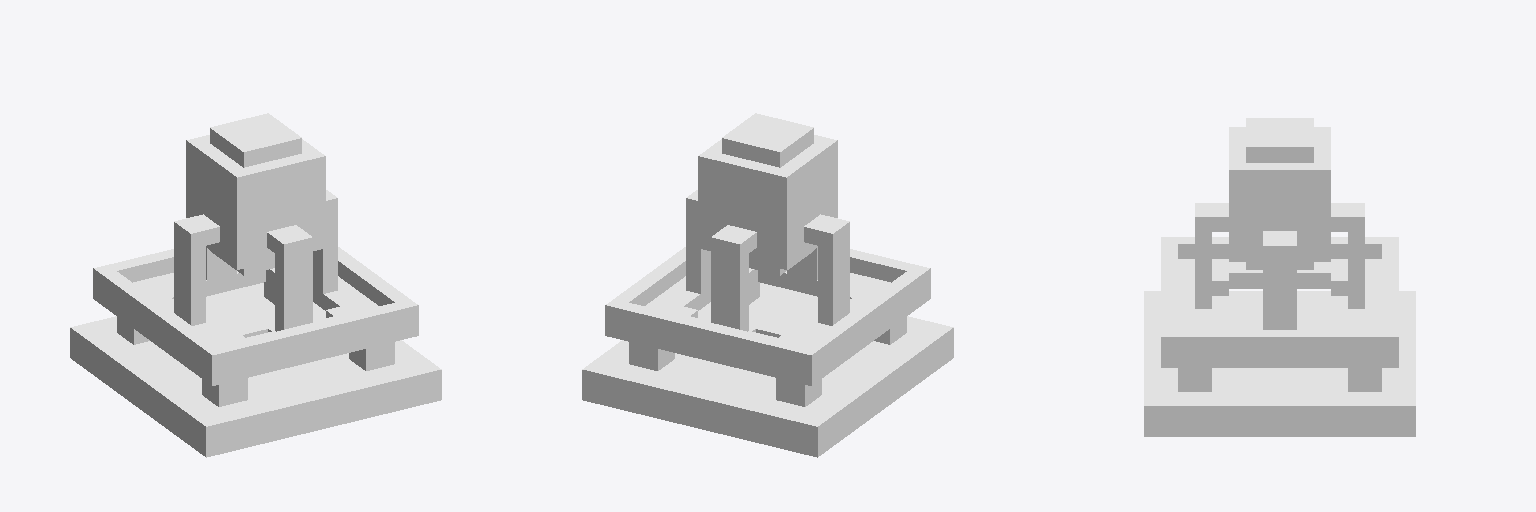
The model's file is baselazer.obj.
The picture shows the model from 3 angles: view 1: azimuth 30°, elevation 25°; view 2: azimuth 150°, elevation 25°; view 3: azimuth 270°, elevation 25°; orthographic projection.
Parts seen in each view (by area): view 1: object 1; view 2: object 1; view 3: object 1.
Part boxes in pixels (x1,y1,x2,y2): object 1: (70, 113, 441, 457); object 1: (582, 113, 953, 457); object 1: (1144, 118, 1415, 436).
Bounding box in the file's own units: 1.6 × 1.6 × 1.6.